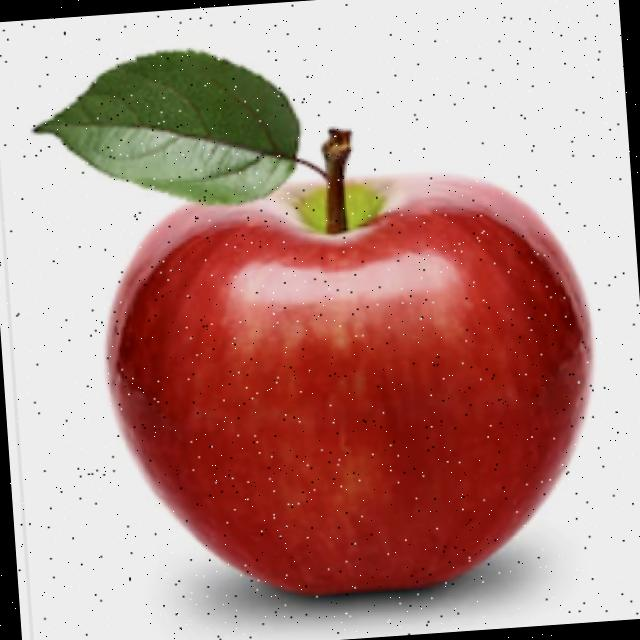Ripe: (83, 150, 614, 616)
